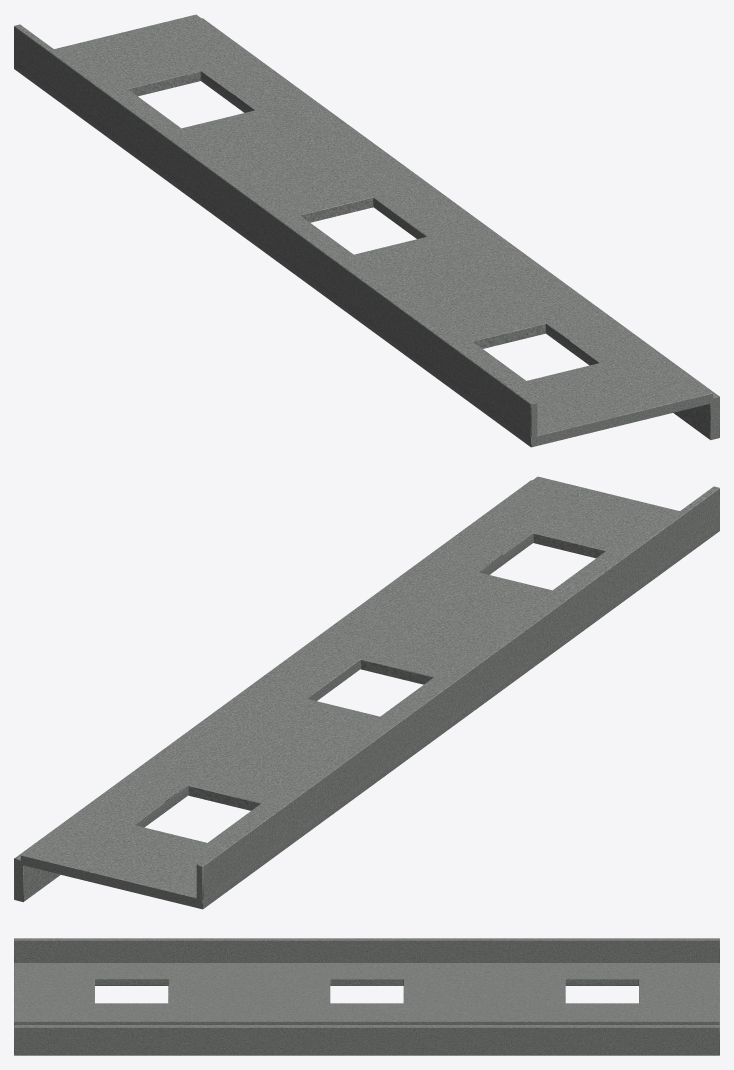
File: bancada_banheiro_realista.glb
3 renders of one model, top to bottom at view 1: azimuth 30°, elevation 25°; view 2: azimuth 150°, elevation 25°; view 3: azimuth 270°, elevation 25°, orthographic. The views are drawn at different scales.
Visible parts, largest first — view 1: Bancada_banheiro; view 2: Bancada_banheiro; view 3: Bancada_banheiro.
Boxes of the visible parts, <box> form: Bancada_banheiro: <box>14,14,719,447</box>; Bancada_banheiro: <box>14,476,719,909</box>; Bancada_banheiro: <box>14,938,719,1055</box>.
Bounding box in the file's own units: 0.57 × 0.23 × 2.7.
Materials: 1 (1 with a texture image).
